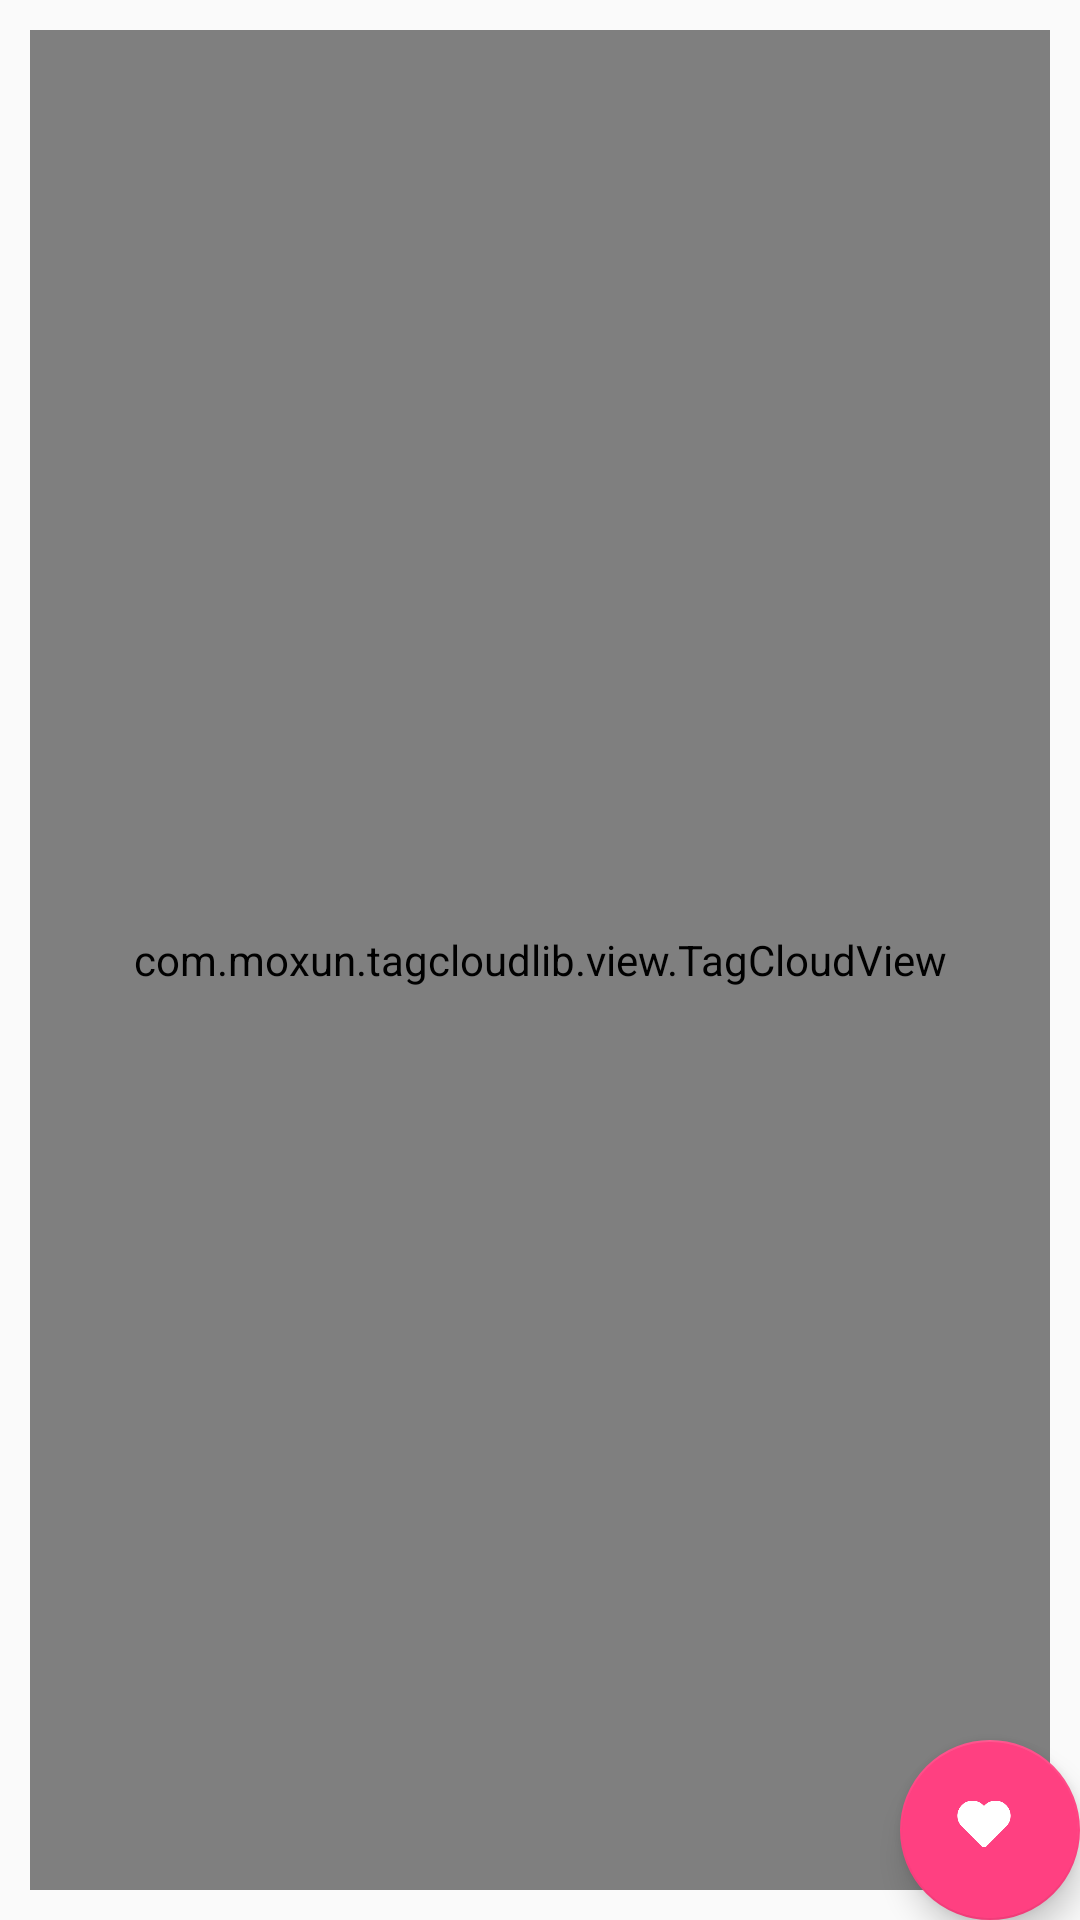

Icons on this 1080×1920 Android screen, each with its box as (x1, y1, x2, y2):
lovewalladd: (900, 1740, 1080, 1920)
